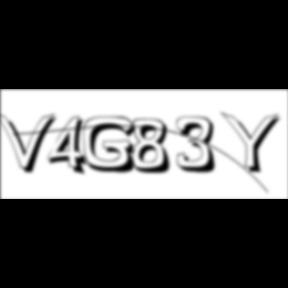3: (177, 116, 223, 176)
4: (46, 115, 94, 179)
8: (132, 117, 178, 176)
G: (84, 116, 142, 176)
V: (0, 110, 60, 176)
Y: (220, 110, 288, 176)
